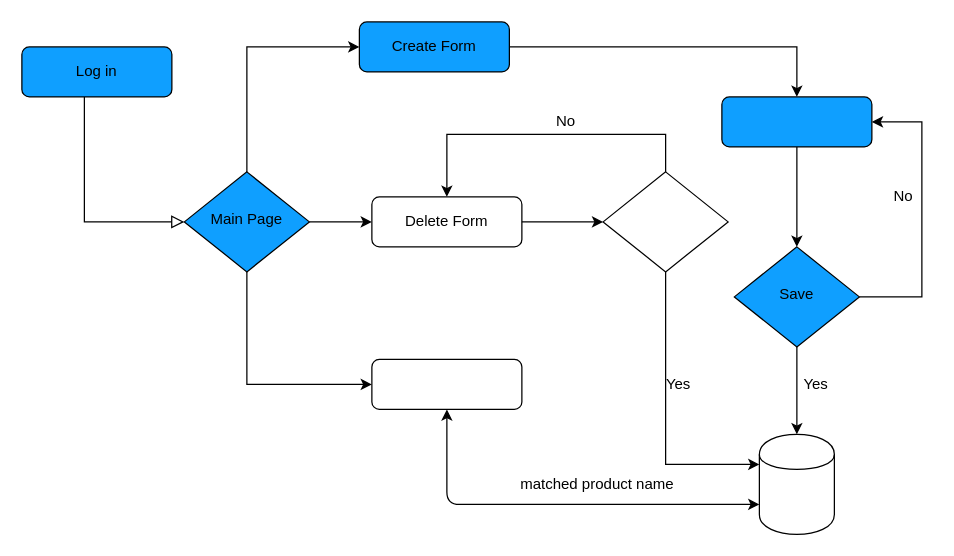
The diagram is 954 pixels wide and 556 high, and some of its shapes have lost their labels. Each missing label, with the box of its shape:
Are you sure to delete form: (602, 171, 728, 272)
Form Page: (721, 96, 872, 147)
Search Form: (371, 358, 522, 409)
